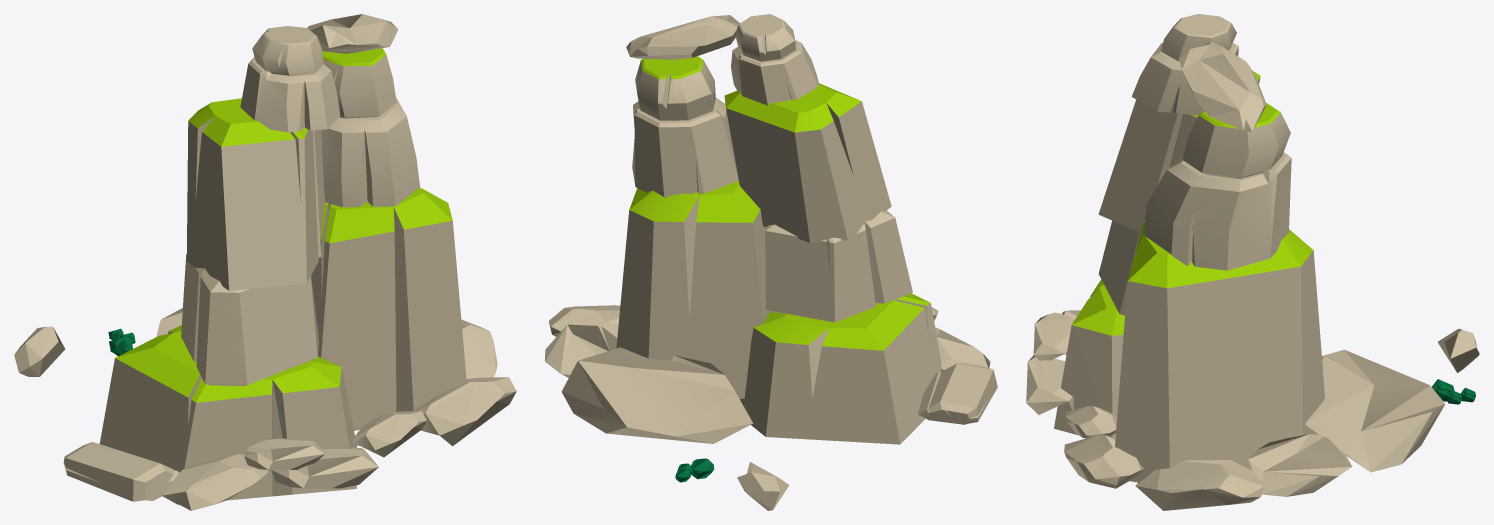
File: Green_2.glb
3 renders of one model, left to right at view 1: azimuth 30°, elevation 25°; view 2: azimuth 150°, elevation 25°; view 3: azimuth 270°, elevation 25°, orthographic. The views are drawn at different scales.
Parts seen in each view (by area): view 1: polySurface23110; view 2: polySurface23110; view 3: polySurface23110.
Boxes of the visible parts, x1,y1,x2,y2 form: polySurface23110: (14, 14, 516, 510); polySurface23110: (545, 14, 997, 510); polySurface23110: (1026, 14, 1479, 510).
Size of the model in its own units: 19.32 by 16.88 by 16.83.
